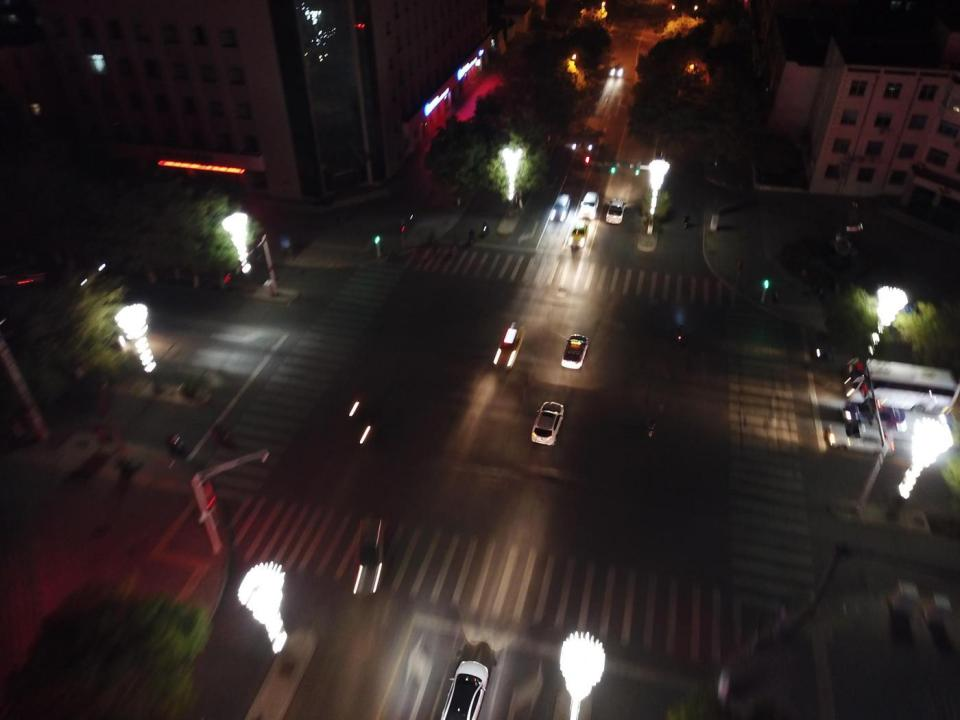bus: (849, 359, 956, 414)
car: (436, 661, 490, 720), (351, 518, 385, 592), (828, 422, 895, 455), (843, 402, 906, 433), (493, 322, 526, 369), (531, 400, 563, 444), (1, 266, 46, 296), (563, 334, 588, 368), (606, 198, 626, 224), (568, 224, 588, 248), (608, 62, 624, 77)
van: (551, 193, 570, 220), (580, 192, 598, 219)
